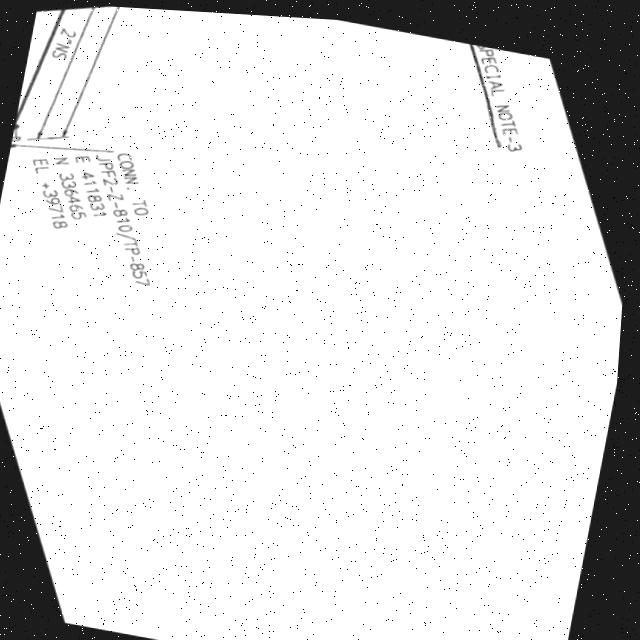Symbol: (10, 122, 29, 158)
other: (26, 144, 174, 295)
